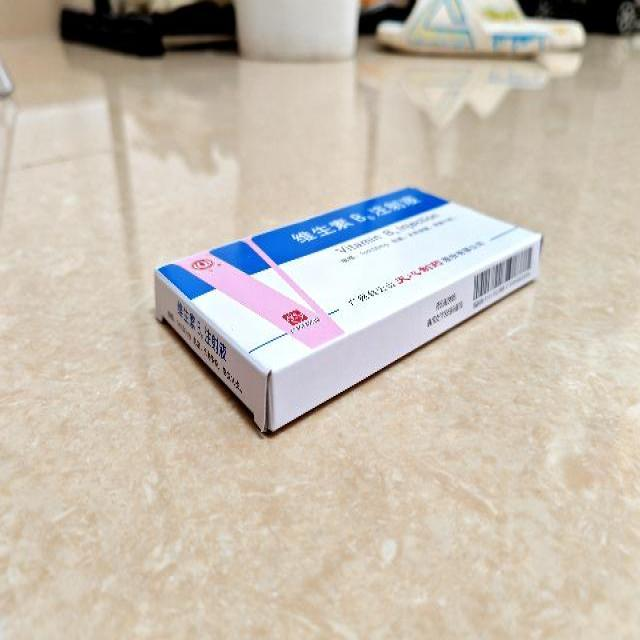box: (153, 185, 542, 434)
